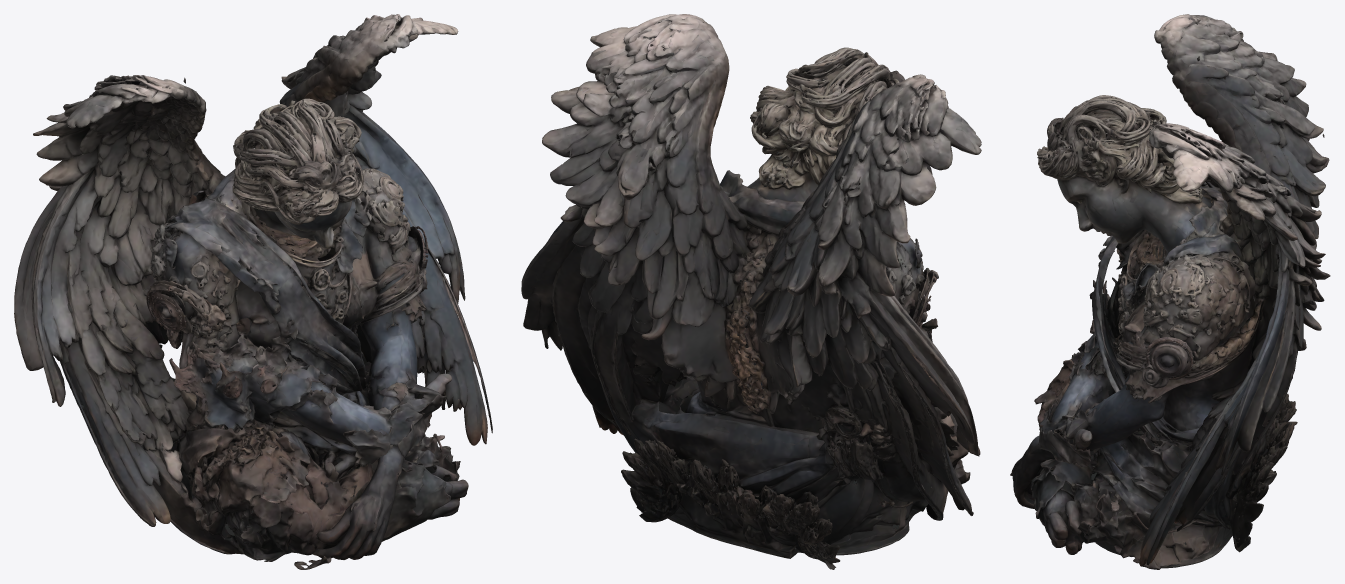
3 renders of one model, left to right at view 1: azimuth 30°, elevation 25°; view 2: azimuth 150°, elevation 25°; view 3: azimuth 270°, elevation 25°, orthographic. The views are drawn at different scales.
Parts seen in each view (by area): view 1: world; view 2: world; view 3: world.
Boxes of the visible parts, bbox=[...] form: world: bbox=[14, 14, 492, 569]; world: bbox=[521, 14, 981, 569]; world: bbox=[1010, 14, 1330, 569].
Size of the model in its own units: 0.9883 by 0.9946 by 0.6744.
1 material, 1 textured.
